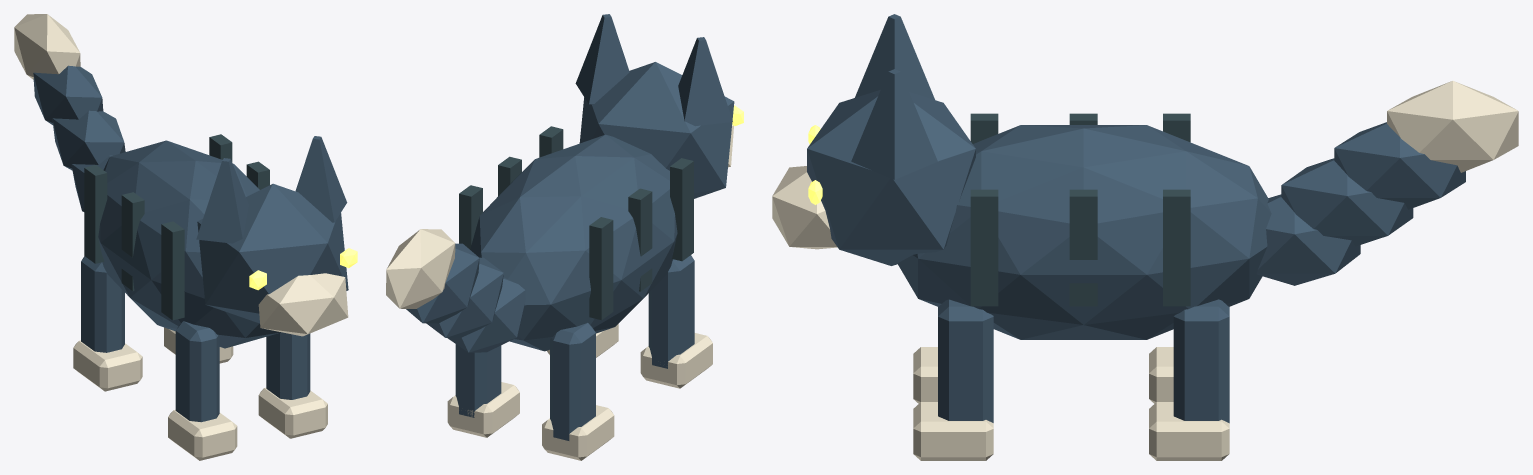
The model's file is tiger.glb.
The picture shows the model from 3 angles, left to right: view 1: azimuth 30°, elevation 25°; view 2: azimuth 150°, elevation 25°; view 3: azimuth 270°, elevation 25°; orthographic projection. The views are drawn at different scales.
Parts seen in each view (by area): view 1: tiger; view 2: tiger; view 3: tiger.
Part boxes in pixels (x1=…): tiger: x1=14, y1=14, x2=357, y2=460; tiger: x1=386, y1=14, x2=743, y2=460; tiger: x1=772, y1=14, x2=1518, y2=460.
Bounding box in the file's own units: 0.7 × 1.35 × 2.41.
